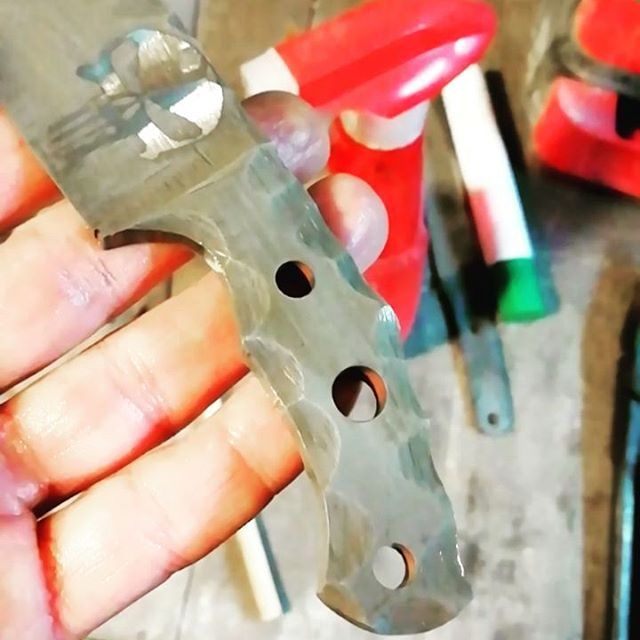knife: (1, 1, 474, 634)
